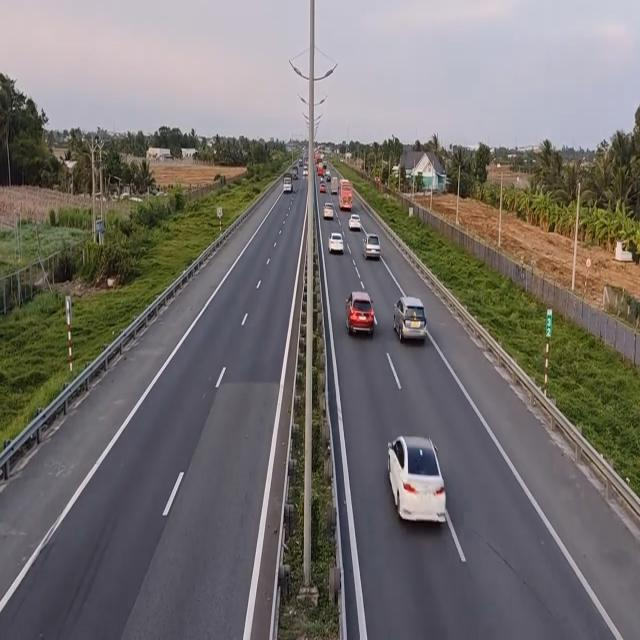bus: (339, 180, 354, 211)
car: (387, 435, 448, 528), (395, 296, 429, 346), (345, 292, 375, 338), (362, 233, 380, 261), (329, 232, 346, 255), (348, 212, 362, 231), (326, 199, 338, 221), (284, 175, 294, 194)
